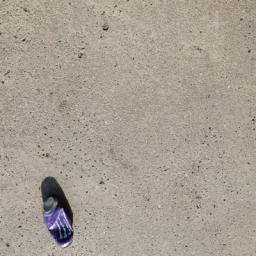FOD: (36, 175, 80, 251)
